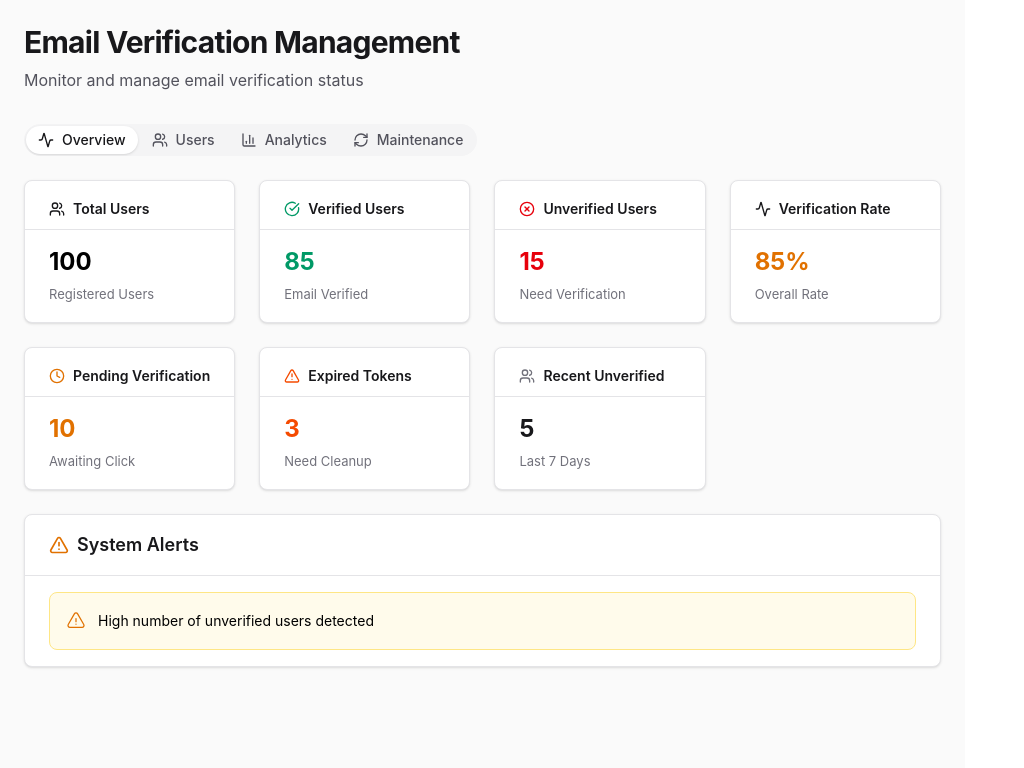
it: EmailVerificationManagement › Users Tab › should switch to users tab
Expected: the heading "Total Users" is shown, [49,200,149,217]
What coordinates should you click on to do the following:
click the button "Users"
I would click on:
 (183, 140)
Its box is [140,126,227,154].
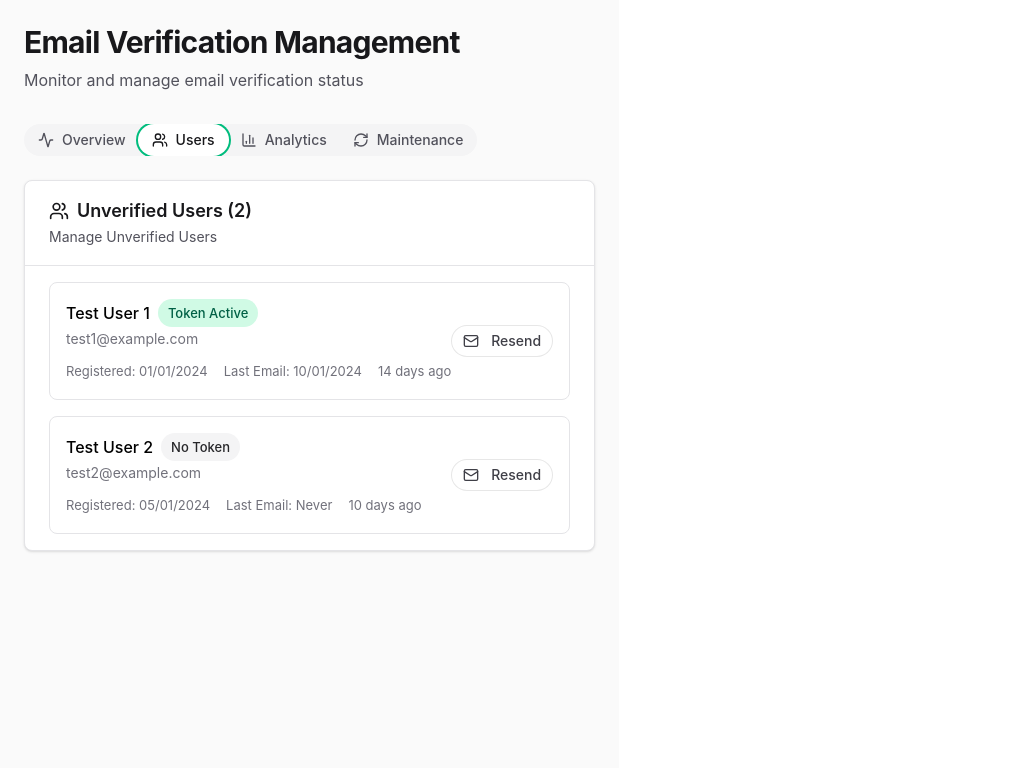
Result: the heading "Unverified Users (2)" is shown at [49,200,252,221]
